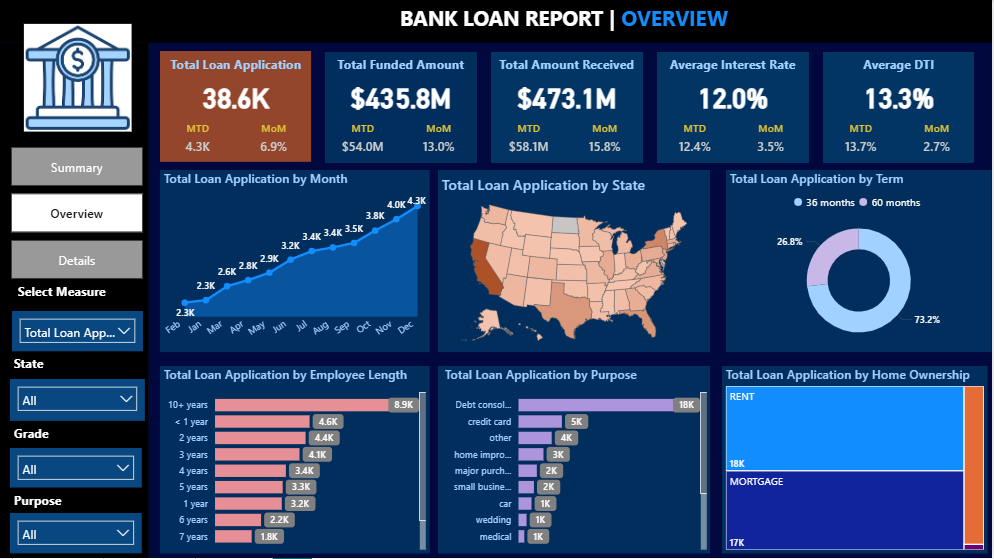

Layout of this report page (visuals, bound fields, positions):
{"tool":"powerbi","page":{"name":"Overview","canvas":[1280,720],"ordinal":1},"visuals":[{"type":"shape","box":[0,0,1279.8,55.3],"z":0},{"type":"card","fields":{"Values":["financial_loan.Total Loan Application"]},"box":[206.9,101,195.6,45.4],"z":0,"group":"g3"},{"type":"card","fields":{"Values":["financial_loan.Total Funded Amount"]},"box":[419.5,101,195.6,45.4],"z":0,"group":"g2"},{"type":"card","fields":{"Values":["financial_loan.Total Amount Received"]},"box":[633.9,101,195.4,45.4],"z":0,"group":"g5"},{"type":"card","fields":{"Values":["financial_loan.Average Interest Rate"]},"box":[847.7,101,195.4,45.4],"z":0,"group":"g4"},{"type":"card","fields":{"Values":["financial_loan.Average DTI"]},"box":[1061.6,101,195.4,45.4],"z":0,"group":"g6"},{"type":"shape","box":[0,55.1,192,664.8],"z":1000},{"type":"textbox","box":[206.9,66.6,195.6,34.4],"z":1000,"group":"g3"},{"type":"textbox","title":"Toatal Funded Amount","box":[419.5,66.6,195.6,34.4],"z":1000,"group":"g2"},{"type":"textbox","box":[633.9,66.6,195.4,34.4],"z":1000,"group":"g5"},{"type":"textbox","box":[847.7,66.6,195.4,34.4],"z":1000,"group":"g4"},{"type":"textbox","box":[1061.6,66.6,195.4,34.4],"z":1000,"group":"g6"},{"type":"textbox","box":[510.6,0,447.3,55.1],"z":2000},{"type":"card","title":"MTD","fields":{"Values":["financial_loan.MTD Loan Application"]},"box":[206.9,156.1,97.8,53.7],"z":2000,"group":"g3"},{"type":"card","title":"MTD","fields":{"Values":["financial_loan.MTD Funded Amount"]},"box":[419.5,156.1,97.8,53.7],"z":2000,"group":"g2"},{"type":"card","title":"MTD","fields":{"Values":["financial_loan.MTD Total Amount Received"]},"box":[633.9,156.1,97.7,53.7],"z":2000,"group":"g5"},{"type":"card","title":"MTD","fields":{"Values":["financial_loan.MTD Average Interest Rate"]},"box":[847.7,156.1,97.7,53.7],"z":2000,"group":"g4"},{"type":"card","title":"MTD","fields":{"Values":["financial_loan.MTD Average DTI"]},"box":[1061.6,156.1,97.7,53.7],"z":2000,"group":"g6"},{"type":"shape","box":[206.5,66.1,195.4,143.1],"z":3000},{"type":"card","title":"MoM","fields":{"Values":["financial_loan.MoM Loan Application"]},"box":[304.7,156.1,97.8,53.7],"z":3000,"group":"g3"},{"type":"card","title":"MoM","fields":{"Values":["financial_loan.MoM Funded Amount"]},"box":[517.3,156.1,97.8,53.7],"z":3000,"group":"g2"},{"type":"card","title":"MoM","fields":{"Values":["financial_loan.MoM Amount Received"]},"box":[731.6,156.1,97.7,53.7],"z":3000,"group":"g5"},{"type":"card","title":"MoM","fields":{"Values":["financial_loan.MoM Average Interest Rate"]},"box":[945.4,156.1,97.7,53.7],"z":3000,"group":"g4"},{"type":"card","title":"MoM","fields":{"Values":["financial_loan.MoM Average Dti"]},"box":[1159.3,156.1,97.7,53.7],"z":3000,"group":"g6"},{"type":"group","id":"g1","title":"Group 1","box":[206.9,66.6,195.6,143.1],"z":4000},{"type":"group","id":"g2","title":"Group 1","box":[419.5,66.6,195.6,143.1],"z":5000},{"type":"group","id":"g3","title":"Group 2","box":[206.9,66.6,195.6,143.1],"z":5001,"group":"g1"},{"type":"group","id":"g4","title":"Group 2","box":[847.7,66.6,195.6,143.1],"z":6000},{"type":"group","id":"g5","title":"Group 2","box":[633.9,66.6,195.4,143.1],"z":7000},{"type":"group","id":"g6","title":"Group 2","box":[1061.6,66.6,195.6,143.1],"z":8000},{"type":"shape","box":[206.5,218.8,348.2,235.4],"z":9000},{"type":"slicer","fields":{"Values":["financial_loan.address_state"]},"box":[12.8,489,174.3,53.9],"z":10000},{"type":"textbox","box":[12.8,453.5,170.1,35.4],"z":11000},{"type":"textbox","box":[12.8,629.3,170.1,32.6],"z":12000},{"type":"textbox","box":[12.8,542.8,170.1,35.4],"z":13000},{"type":"slicer","fields":{"Values":["financial_loan.purpose"]},"box":[12.8,661.9,170.1,52.4],"z":14000},{"type":"slicer","fields":{"Values":["financial_loan.grade"]},"box":[12.8,578.3,170.1,51],"z":15000},{"type":"shape","box":[931.8,472.1,342.7,242.2],"z":16000},{"type":"shape","box":[565.7,472.1,351,242.2],"z":17000},{"type":"shape","box":[206.5,472.1,348.2,242.2],"z":18000},{"type":"shape","box":[937.3,218.8,342.7,235.4],"z":19000},{"type":"shape","box":[565.7,218.8,351,235.4],"z":20000},{"type":"areaChart","fields":{"Y":["financial_loan.Total Loan Application"],"Category":["Date Table.Month"]},"box":[206.5,218.8,348.2,235.4],"z":21000},{"type":"slicer","fields":{"Values":["select measure.select measure"]},"box":[15.6,401.1,168.7,52.4],"z":22000},{"type":"textbox","box":[18.4,360,168.7,41.1],"z":23000},{"type":"donutChart","fields":{"Y":["financial_loan.Total Loan Application"],"Category":["financial_loan.term"]},"box":[937.3,218.8,342.7,235.4],"z":24000},{"type":"barChart","fields":{"Y":["financial_loan.Total Loan Application"],"Category":["financial_loan.emp_length"]},"box":[206.5,472.1,348.2,242.2],"z":25000},{"type":"barChart","fields":{"Y":["financial_loan.Total Loan Application"],"Category":["financial_loan.purpose"]},"box":[568.4,472.1,348.2,242.2],"z":26000},{"type":"treemap","fields":{"Values":["financial_loan.Total Loan Application"],"Group":["financial_loan.home_ownership"]},"box":[931.8,472.1,342.7,242.2],"z":27000},{"type":"pageNavigator","box":[14.2,189.9,170.1,170.1],"z":28000},{"type":"shapeMap","fields":{"Category":["financial_loan.address_state"],"Value":["financial_loan.Total Loan Application"]},"box":[565.5,223.9,351.5,229.6],"z":28001},{"type":"image","box":[25.5,25.5,148.8,148.8],"z":28002}]}

Visuals, with their boxes on the page's 1280x720 design canvas (x1, y1, x2, y2). These are canvas units, not pixel positions in the 994x559 screenshot, which may show the page scaled, cropped or inside an application window:
shape: [x1=0, y1=0, x2=1280, y2=55]
card - financial_loan.Total Loan Application: [x1=207, y1=101, x2=402, y2=146]
card - financial_loan.Total Funded Amount: [x1=420, y1=101, x2=615, y2=146]
card - financial_loan.Total Amount Received: [x1=634, y1=101, x2=829, y2=146]
card - financial_loan.Average Interest Rate: [x1=848, y1=101, x2=1043, y2=146]
card - financial_loan.Average DTI: [x1=1062, y1=101, x2=1257, y2=146]
shape: [x1=0, y1=55, x2=192, y2=720]
textbox: [x1=207, y1=67, x2=402, y2=101]
"Toatal Funded Amount" textbox: [x1=420, y1=67, x2=615, y2=101]
textbox: [x1=634, y1=67, x2=829, y2=101]
textbox: [x1=848, y1=67, x2=1043, y2=101]
textbox: [x1=1062, y1=67, x2=1257, y2=101]
textbox: [x1=511, y1=0, x2=958, y2=55]
"MTD" card: [x1=207, y1=156, x2=305, y2=210]
"MTD" card: [x1=420, y1=156, x2=517, y2=210]
"MTD" card: [x1=634, y1=156, x2=732, y2=210]
"MTD" card: [x1=848, y1=156, x2=945, y2=210]
"MTD" card: [x1=1062, y1=156, x2=1159, y2=210]
shape: [x1=206, y1=66, x2=402, y2=209]
"MoM" card: [x1=305, y1=156, x2=402, y2=210]
"MoM" card: [x1=517, y1=156, x2=615, y2=210]
"MoM" card: [x1=732, y1=156, x2=829, y2=210]
"MoM" card: [x1=945, y1=156, x2=1043, y2=210]
"MoM" card: [x1=1159, y1=156, x2=1257, y2=210]
"Group 1" group: [x1=207, y1=67, x2=402, y2=210]
"Group 1" group: [x1=420, y1=67, x2=615, y2=210]
"Group 2" group: [x1=207, y1=67, x2=402, y2=210]
"Group 2" group: [x1=848, y1=67, x2=1043, y2=210]
"Group 2" group: [x1=634, y1=67, x2=829, y2=210]
"Group 2" group: [x1=1062, y1=67, x2=1257, y2=210]
shape: [x1=206, y1=219, x2=555, y2=454]
slicer - financial_loan.address_state: [x1=13, y1=489, x2=187, y2=543]
textbox: [x1=13, y1=454, x2=183, y2=489]
textbox: [x1=13, y1=629, x2=183, y2=662]
textbox: [x1=13, y1=543, x2=183, y2=578]
slicer - financial_loan.purpose: [x1=13, y1=662, x2=183, y2=714]
slicer - financial_loan.grade: [x1=13, y1=578, x2=183, y2=629]
shape: [x1=932, y1=472, x2=1274, y2=714]
shape: [x1=566, y1=472, x2=917, y2=714]
shape: [x1=206, y1=472, x2=555, y2=714]
shape: [x1=937, y1=219, x2=1280, y2=454]
shape: [x1=566, y1=219, x2=917, y2=454]
areaChart - financial_loan.Total Loan Application x Date Table.Month: [x1=206, y1=219, x2=555, y2=454]
slicer - select measure.select measure: [x1=16, y1=401, x2=184, y2=454]
textbox: [x1=18, y1=360, x2=187, y2=401]
donutChart - financial_loan.Total Loan Application x financial_loan.term: [x1=937, y1=219, x2=1280, y2=454]
barChart - financial_loan.Total Loan Application x financial_loan.emp_length: [x1=206, y1=472, x2=555, y2=714]
barChart - financial_loan.Total Loan Application x financial_loan.purpose: [x1=568, y1=472, x2=917, y2=714]
treemap - financial_loan.Total Loan Application x financial_loan.home_ownership: [x1=932, y1=472, x2=1274, y2=714]
pageNavigator: [x1=14, y1=190, x2=184, y2=360]
shapeMap - financial_loan.address_state x financial_loan.Total Loan Application: [x1=566, y1=224, x2=917, y2=454]
image: [x1=26, y1=26, x2=174, y2=174]
